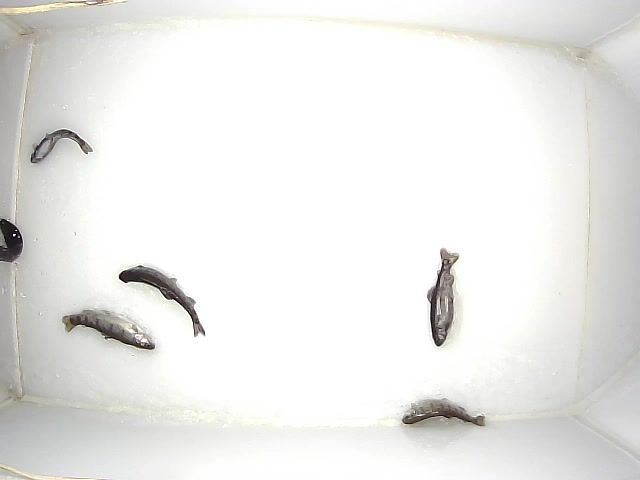fish: (119, 265, 206, 338), (62, 309, 155, 350), (427, 248, 459, 347), (402, 397, 486, 427), (30, 129, 93, 164), (1, 219, 23, 262)
